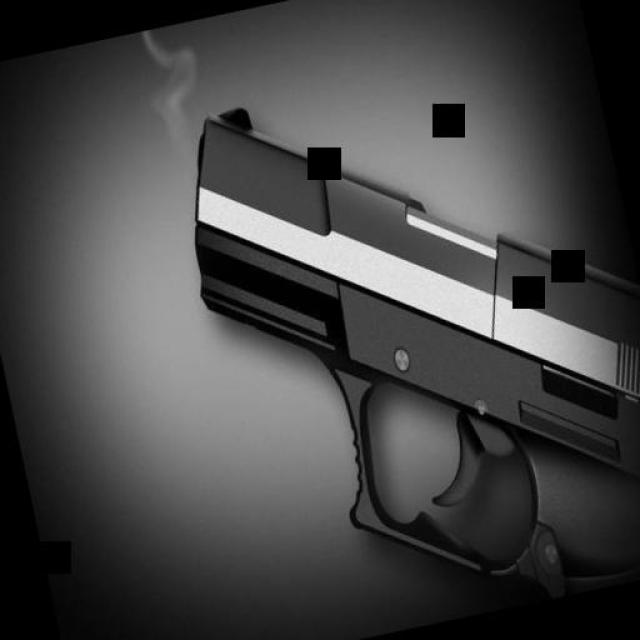gun: (166, 17, 640, 640)
